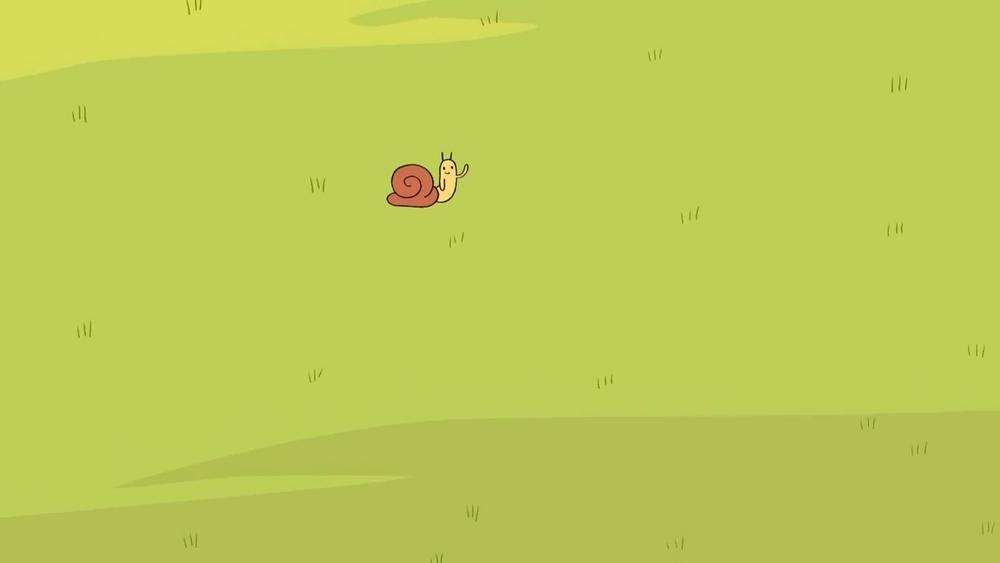snail: (385, 151, 470, 209)
